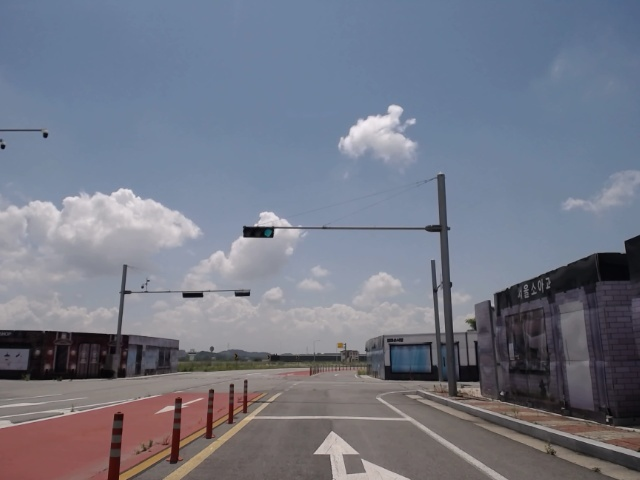green_3: (243, 227, 272, 237)
